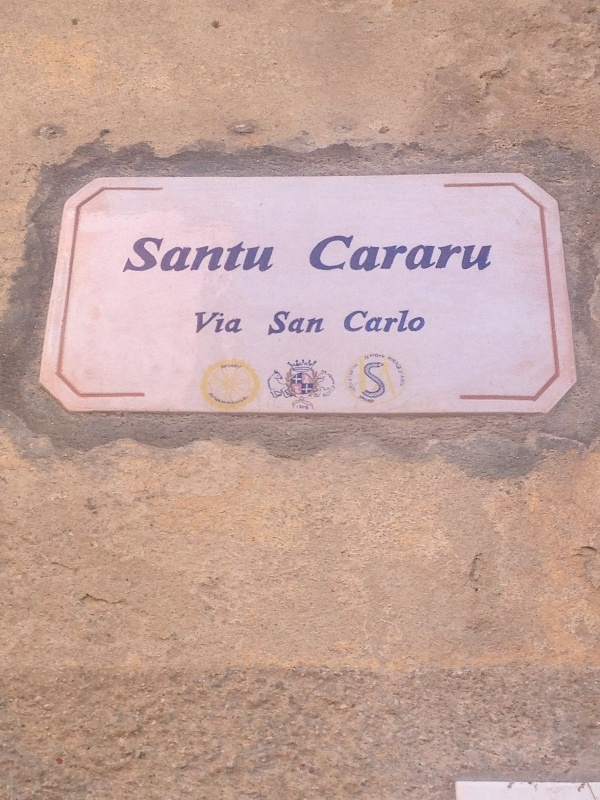text: (321, 232, 336, 273), (337, 232, 352, 273), (353, 232, 368, 273), (369, 232, 384, 273), (385, 232, 400, 273), (401, 232, 416, 273), (417, 232, 432, 273), (433, 232, 448, 273), (449, 232, 464, 273), (465, 232, 480, 273), (369, 362, 385, 399), (145, 237, 160, 276), (161, 237, 176, 276), (177, 237, 192, 276), (193, 237, 208, 276), (209, 237, 224, 276), (225, 237, 240, 276), (241, 237, 256, 276), (257, 237, 272, 276), (481, 232, 495, 273), (354, 363, 368, 395), (209, 308, 224, 337), (225, 308, 240, 337), (289, 309, 304, 338), (305, 309, 320, 338), (388, 355, 400, 389), (195, 308, 208, 337), (353, 309, 368, 334), (369, 309, 384, 334), (385, 309, 400, 334), (401, 309, 416, 334), (276, 309, 288, 338), (136, 237, 144, 276), (401, 355, 408, 389), (417, 309, 426, 334), (225, 392, 240, 407), (211, 392, 224, 407), (273, 237, 277, 276), (241, 392, 250, 407), (225, 362, 240, 370), (321, 309, 325, 338), (365, 362, 368, 399), (369, 354, 384, 360), (241, 308, 244, 337), (349, 309, 352, 334), (361, 395, 368, 404), (369, 395, 375, 404), (319, 232, 320, 273), (297, 405, 304, 410), (364, 355, 368, 362), (221, 362, 224, 370), (305, 405, 309, 410), (241, 362, 243, 370), (369, 355, 370, 362)
